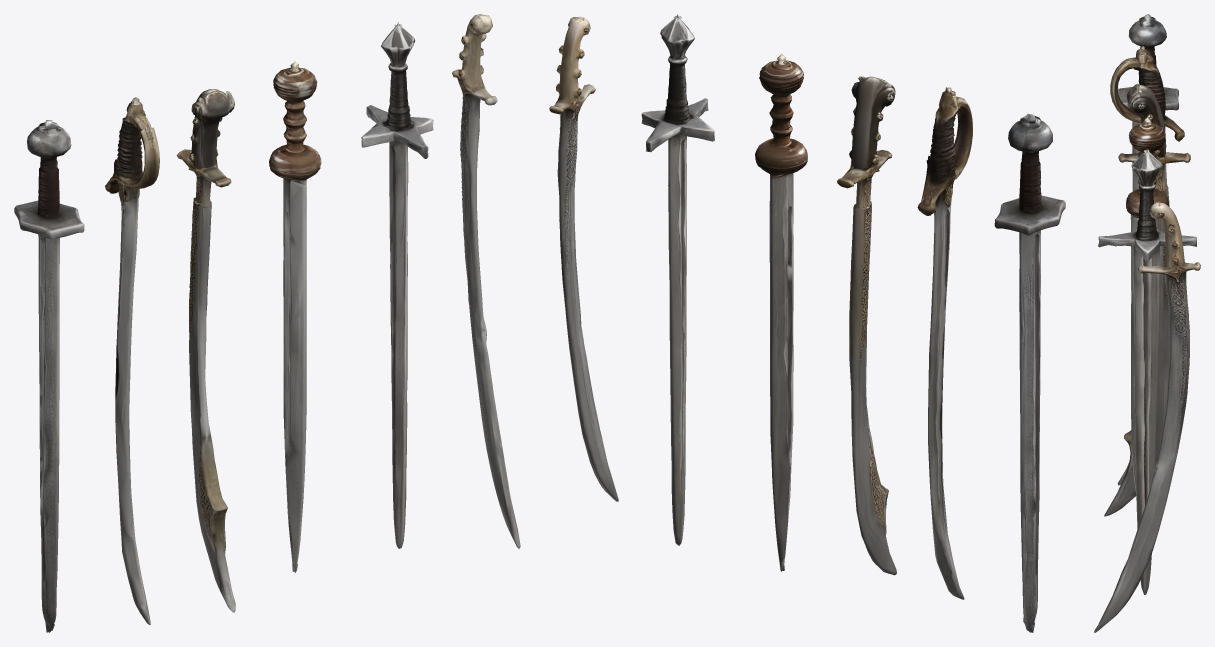
File: weapons_swords_medium.glb
3 views of the same model, side by side, from view 1: azimuth 30°, elevation 25°; view 2: azimuth 150°, elevation 25°; view 3: azimuth 270°, elevation 25° (orthographic). The views are drawn at different scales.
Parts seen in each view (by area): view 1: sword_med_spatha, sword_med_viking, sword_med_kilij, sword_med_arming, sword_med_sabre, sword_med_shamshir; view 2: sword_med_spatha, sword_med_viking, sword_med_kilij, sword_med_arming, sword_med_sabre, sword_med_shamshir; view 3: sword_med_shamshir, sword_med_arming, sword_med_spatha, sword_med_kilij, sword_med_sabre, sword_med_viking.
Part boxes in pixels (x1,y1,x2,y2): sword_med_spatha: [269, 61, 321, 572]; sword_med_viking: [14, 120, 84, 632]; sword_med_kilij: [176, 89, 235, 612]; sword_med_arming: [361, 22, 433, 548]; sword_med_sabre: [105, 97, 159, 624]; sword_med_shamshir: [452, 14, 520, 548]; sword_med_spatha: [755, 54, 807, 571]; sword_med_viking: [994, 113, 1065, 632]; sword_med_kilij: [837, 76, 896, 575]; sword_med_arming: [641, 14, 714, 545]; sword_med_sabre: [917, 87, 972, 599]; sword_med_shamshir: [549, 16, 618, 501]; sword_med_shamshir: [1094, 202, 1200, 632]; sword_med_arming: [1098, 149, 1196, 594]; sword_med_spatha: [1126, 117, 1168, 494]; sword_med_kilij: [1104, 83, 1190, 516]; sword_med_sabre: [1110, 46, 1184, 485]; sword_med_viking: [1117, 14, 1178, 190].
Size of the model in its own units: 0.6647 by 0.6973 by 0.1509.
Materials: 1 (1 with a texture image).
